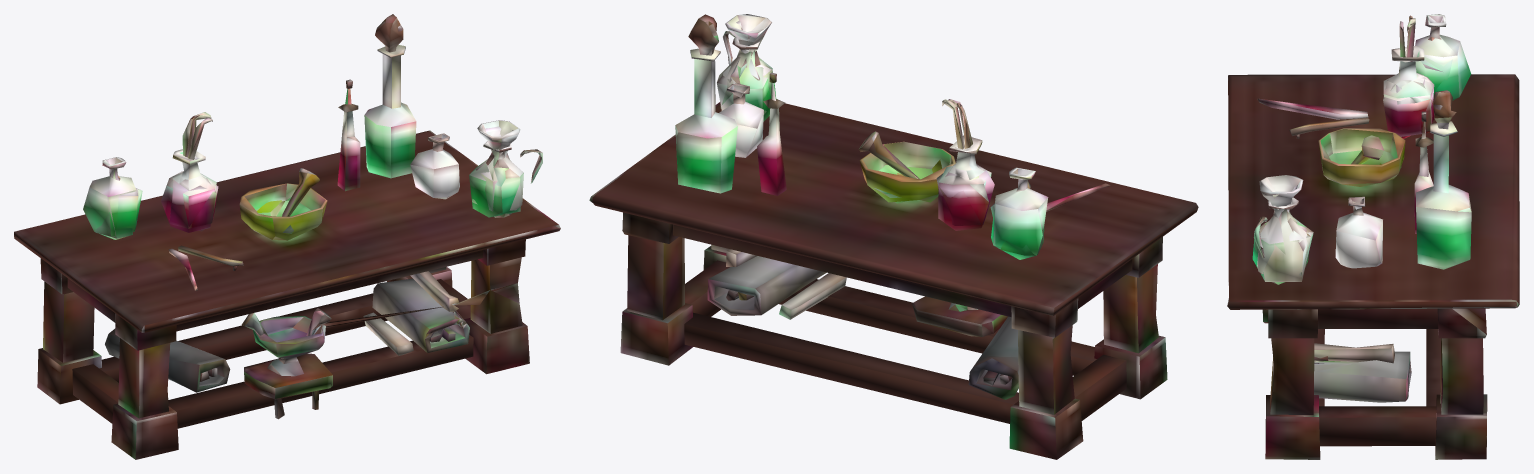
Rendered from alchemy-table.lod2.glb.
3 views of the same model, side by side, from view 1: azimuth 30°, elevation 25°; view 2: azimuth 150°, elevation 25°; view 3: azimuth 270°, elevation 25° (orthographic). The views are drawn at different scales.
Bounding box in the file's own units: 1.6 × 1.11 × 0.8681.
Materials: 1 (1 with a texture image).
